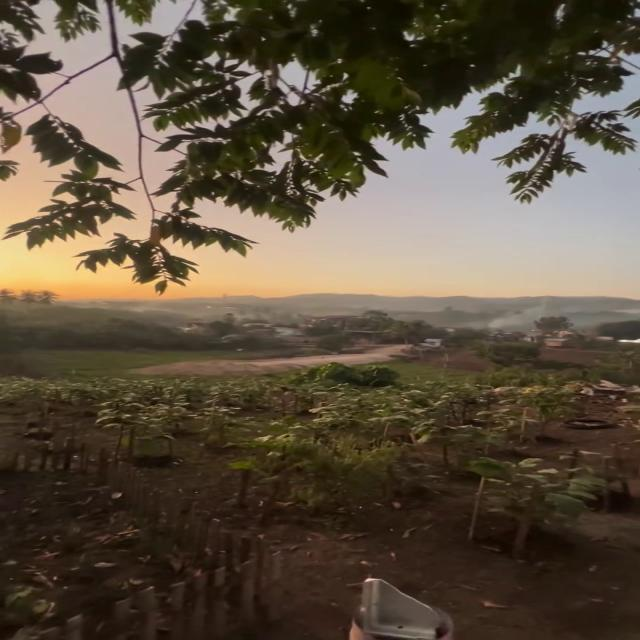Smoke: (479, 283, 585, 339)
